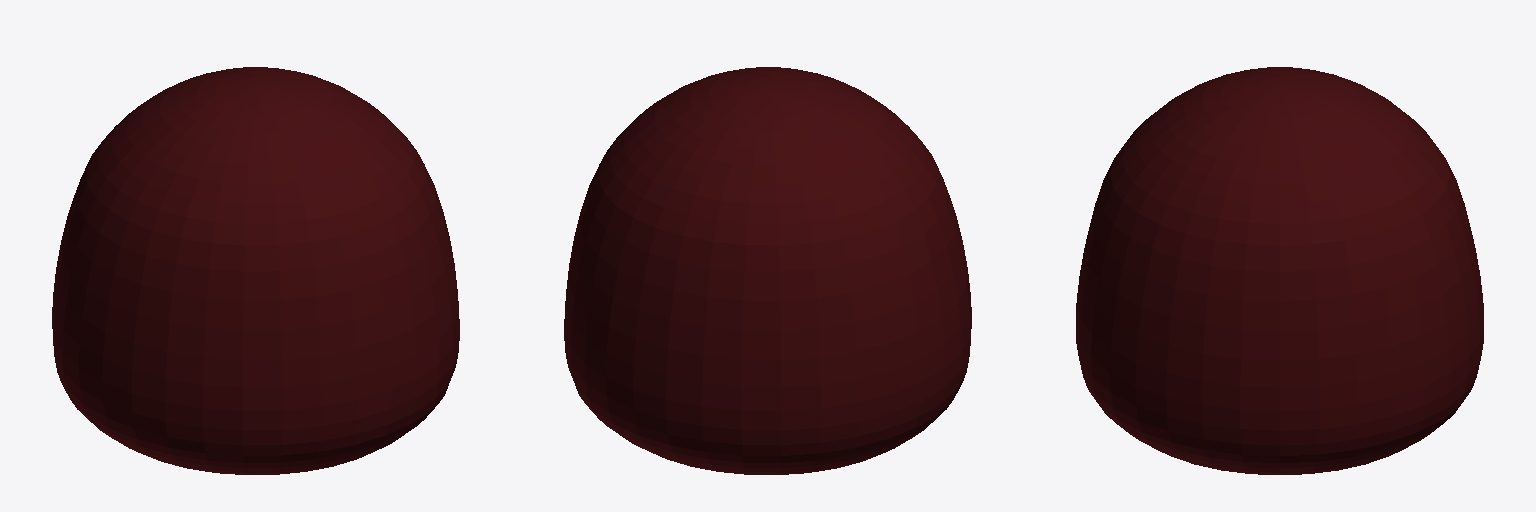
File: kok.obj
3 renders of one model, left to right at view 1: azimuth 30°, elevation 25°; view 2: azimuth 150°, elevation 25°; view 3: azimuth 270°, elevation 25°, orthographic.
Visible parts, largest first — view 1: Sphere; view 2: Sphere; view 3: Sphere.
Part boxes in pixels (x1,y1,x2,y2): Sphere: (52, 67, 459, 474); Sphere: (564, 67, 971, 474); Sphere: (1076, 67, 1483, 474).
Bounding box in the file's own units: 2.58 × 2.38 × 2.58.